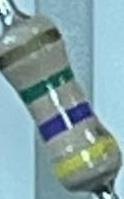Blue: (37, 100, 95, 144)
Green: (18, 63, 76, 107)
Side-Gold: (0, 25, 62, 72)
Yellow: (51, 136, 120, 180)
